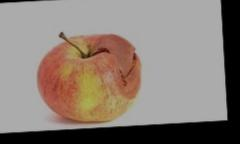rotten apple: (30, 28, 151, 123)
